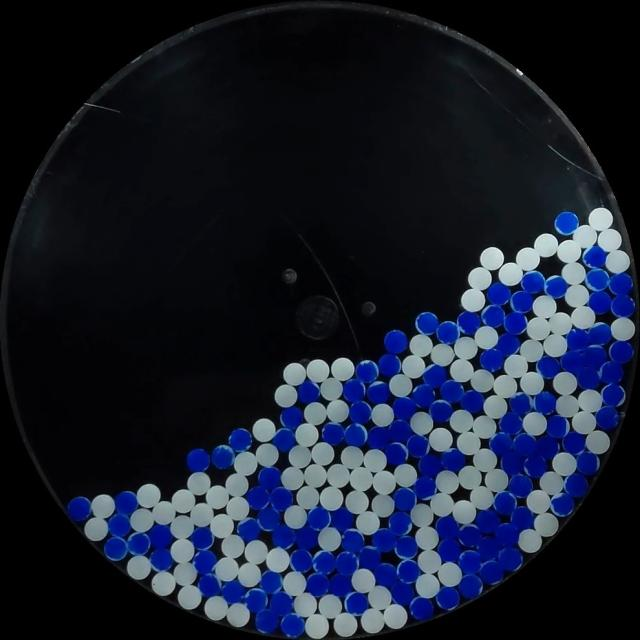pmmma-blanca: (121, 554, 152, 584), (423, 342, 455, 369), (426, 491, 456, 519), (525, 318, 557, 341), (524, 487, 552, 513), (303, 398, 329, 426), (232, 452, 259, 478), (85, 514, 111, 541), (319, 484, 344, 512), (519, 336, 545, 362), (586, 430, 612, 456), (326, 461, 352, 487), (368, 494, 394, 520), (283, 570, 309, 596), (150, 571, 176, 597), (468, 262, 493, 289), (552, 451, 578, 476), (521, 412, 546, 438), (519, 370, 544, 396), (415, 524, 440, 550), (392, 462, 418, 487), (272, 383, 297, 409), (266, 548, 291, 574), (237, 560, 262, 586), (154, 499, 180, 524), (548, 310, 575, 334), (408, 334, 435, 358), (416, 550, 443, 574), (358, 609, 385, 633), (318, 594, 345, 618), (171, 562, 198, 586), (588, 206, 616, 229), (202, 598, 230, 621), (541, 335, 570, 357), (492, 375, 522, 396), (561, 236, 586, 261), (428, 426, 453, 451), (453, 336, 479, 360), (460, 288, 486, 312), (606, 247, 630, 273), (282, 504, 308, 528), (333, 612, 359, 636), (186, 471, 212, 495), (255, 443, 278, 470), (575, 222, 600, 246), (503, 354, 528, 378), (611, 317, 635, 342), (408, 412, 433, 436), (457, 466, 482, 490), (438, 562, 463, 586), (296, 421, 320, 446), (280, 465, 305, 489), (339, 447, 364, 471), (296, 485, 320, 510), (308, 613, 333, 637), (292, 592, 317, 616), (244, 539, 268, 564), (210, 514, 235, 538), (136, 483, 160, 508), (577, 389, 603, 412), (473, 414, 499, 437), (450, 501, 476, 524), (349, 468, 375, 491), (225, 472, 251, 495), (227, 496, 250, 522), (172, 489, 198, 512), (176, 586, 202, 609), (409, 502, 436, 524), (389, 371, 413, 395), (535, 512, 559, 536), (485, 394, 509, 418), (345, 490, 369, 514), (352, 568, 376, 592), (367, 585, 391, 609), (206, 485, 230, 509), (554, 372, 577, 397), (571, 411, 596, 434), (416, 574, 441, 597), (189, 503, 214, 526), (171, 515, 196, 538), (597, 231, 625, 251), (570, 306, 594, 329), (553, 395, 577, 418), (451, 408, 474, 432), (434, 472, 458, 495), (321, 376, 344, 400), (373, 471, 397, 494), (372, 404, 395, 428), (216, 557, 240, 580), (221, 534, 244, 558), (252, 418, 275, 442), (93, 493, 115, 518), (356, 512, 382, 533), (311, 443, 334, 466), (384, 604, 407, 627), (479, 247, 503, 269), (520, 246, 542, 270), (306, 358, 328, 382), (284, 362, 306, 386), (172, 539, 194, 563), (227, 603, 251, 625), (541, 470, 562, 495), (458, 431, 483, 452), (469, 370, 495, 390), (319, 526, 339, 552), (486, 468, 508, 491), (537, 233, 559, 255), (564, 264, 587, 285), (534, 297, 557, 318), (288, 445, 311, 466), (566, 284, 590, 304), (403, 356, 424, 378), (502, 262, 523, 284), (520, 529, 542, 550), (332, 358, 353, 380), (328, 400, 348, 423), (366, 452, 388, 472), (474, 326, 498, 344), (130, 514, 154, 532), (472, 488, 493, 508), (477, 450, 497, 470), (452, 361, 473, 380), (305, 466, 324, 486)
